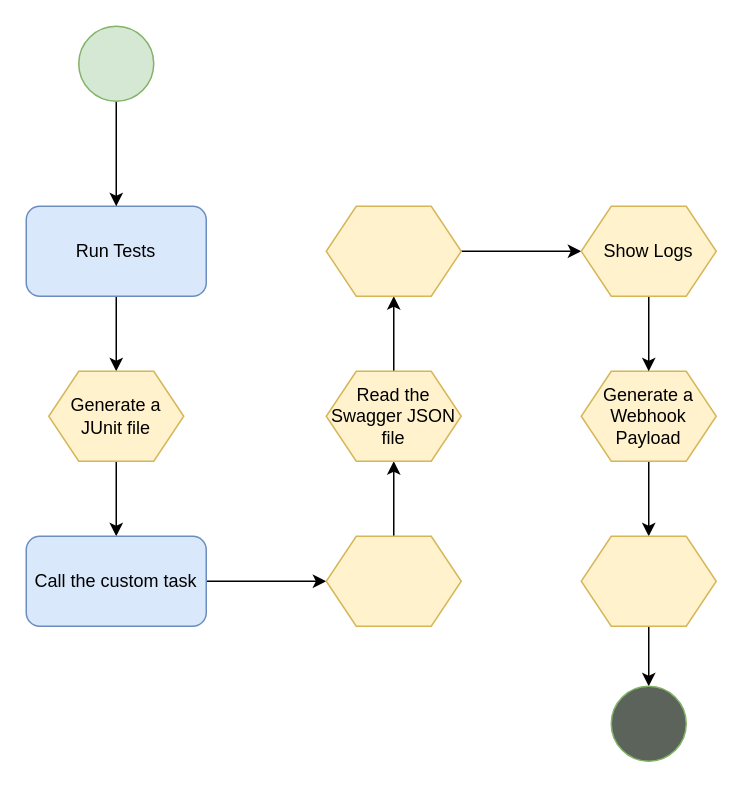
The diagram is 743 pixels wide and 788 high, and some of its shapes have lost their labels. Each missing label, with the centre of its shape:
Made from-to: point (393, 250)
Read the JUnit file: point (393, 580)
Send the Payload: point (648, 580)
